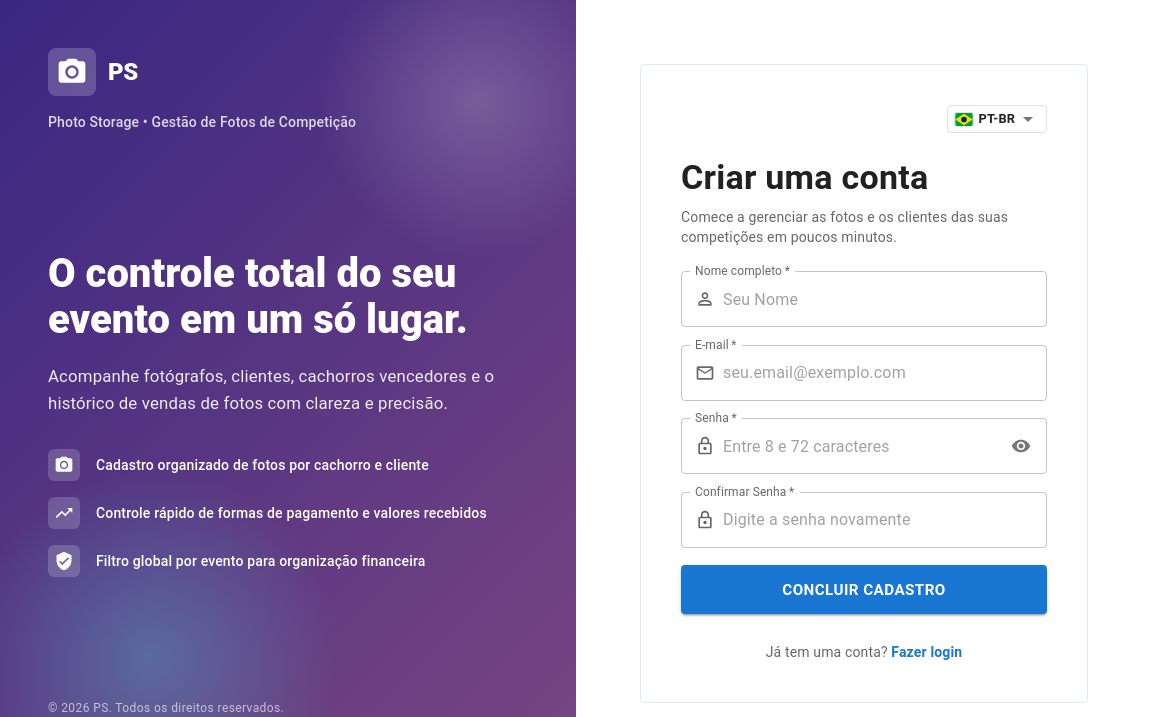
Test: RegisterPage › shows error message when password has less than 8 characters
In the field labelled "Nome completo *": coordinates (885, 299) top-left (723, 271), bottom-right (1047, 327), type "Test User"
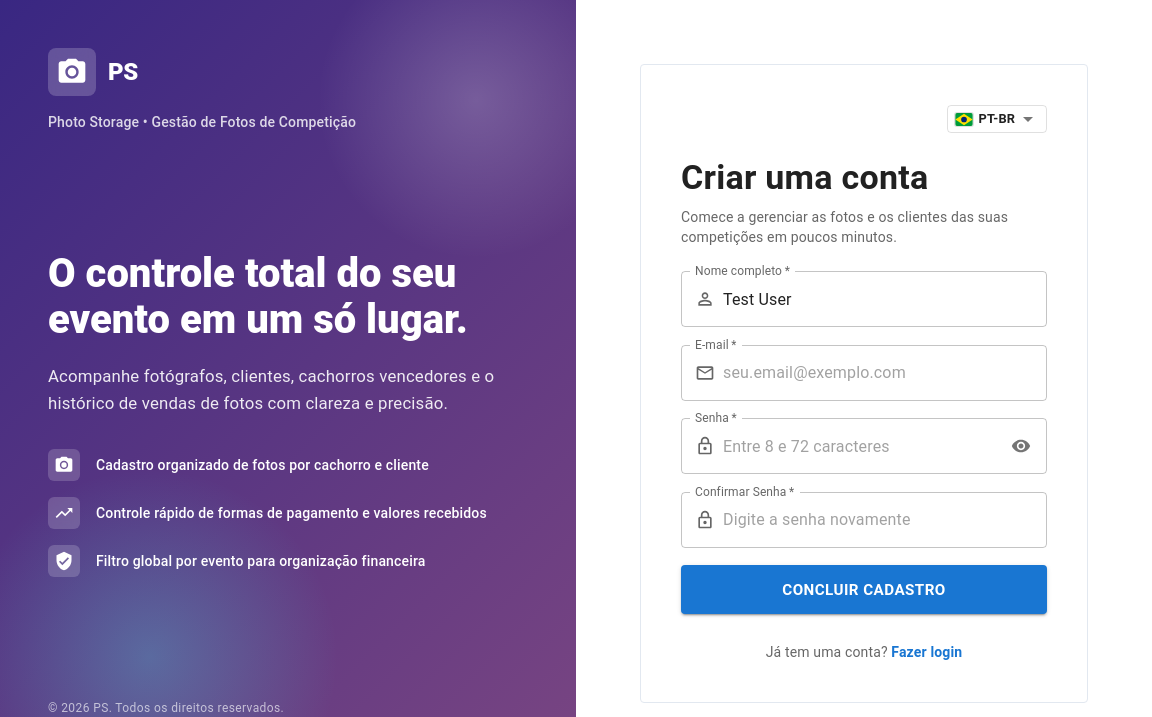
In the field labelled "E-mail *": coordinates (885, 373) top-left (723, 345), bottom-right (1047, 401), type "test@example.com"
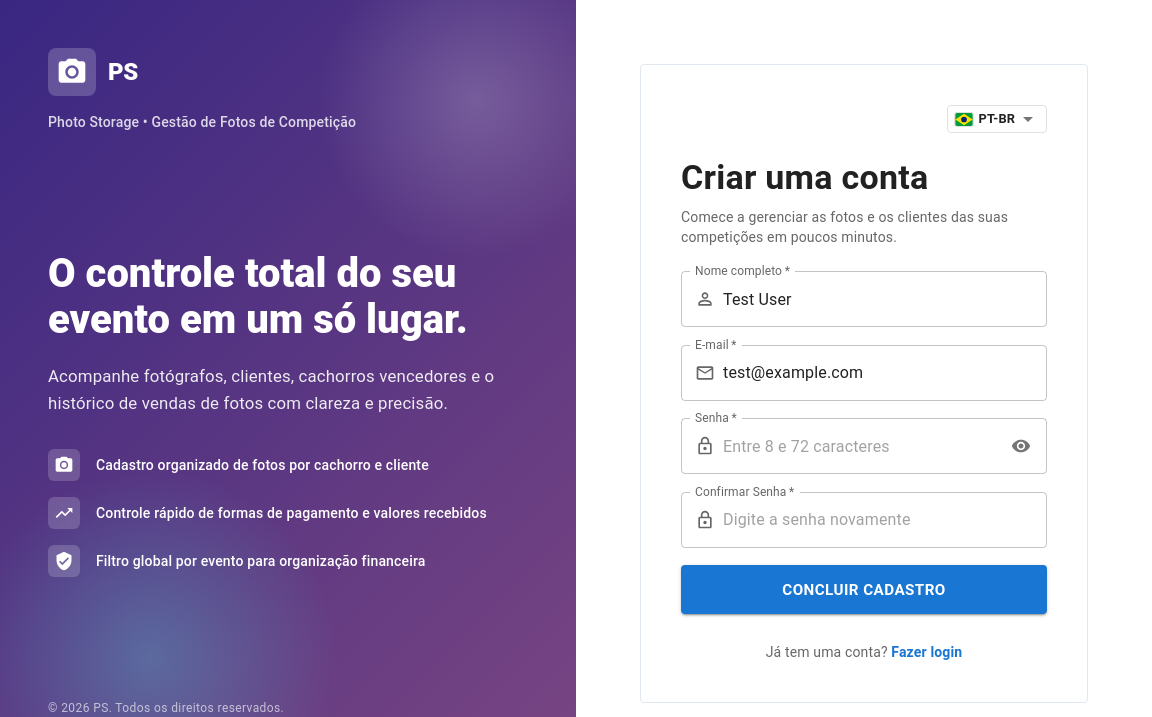
In the password field labelled "Senha *": coordinates (860, 446) top-left (723, 418), bottom-right (998, 474), type "short"
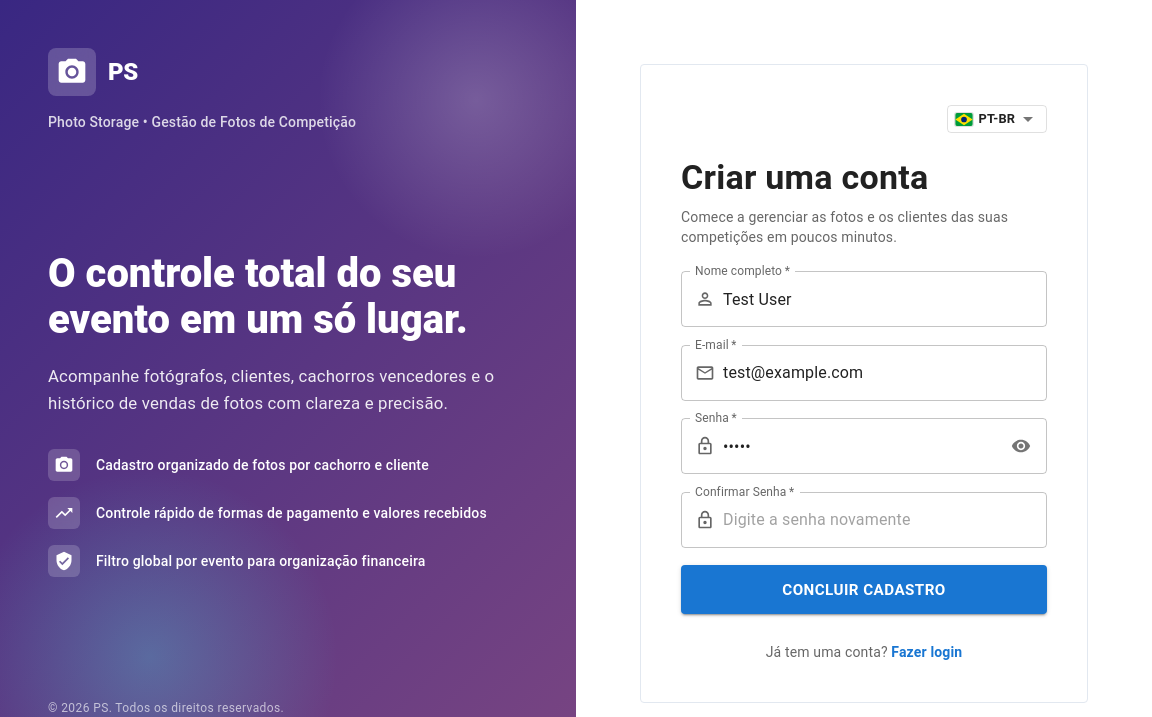
In the password field labelled "Confirmar Senha *": coordinates (885, 520) top-left (723, 492), bottom-right (1047, 548), type "short"
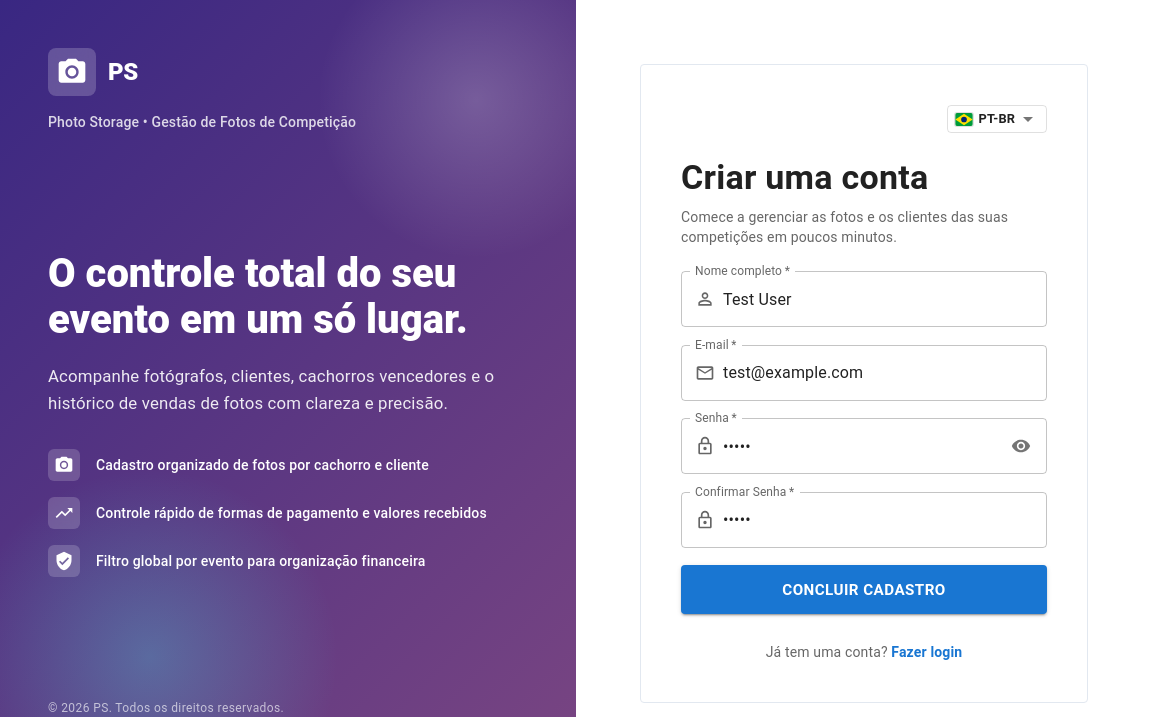
Click the button "Concluir Cadastro": coordinates (864, 590) top-left (681, 565), bottom-right (1047, 614)
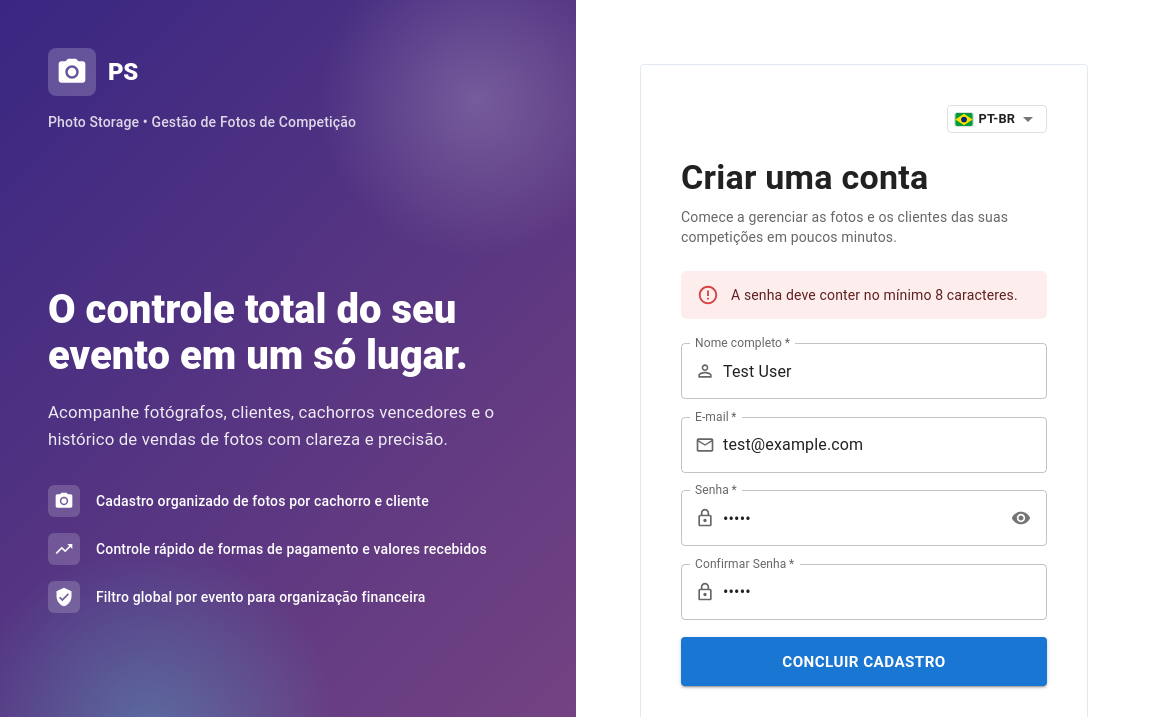
Check: the text "A senha deve conter no mínimo 8 caracteres." is shown, box top-left (731, 287), bottom-right (1018, 303)
